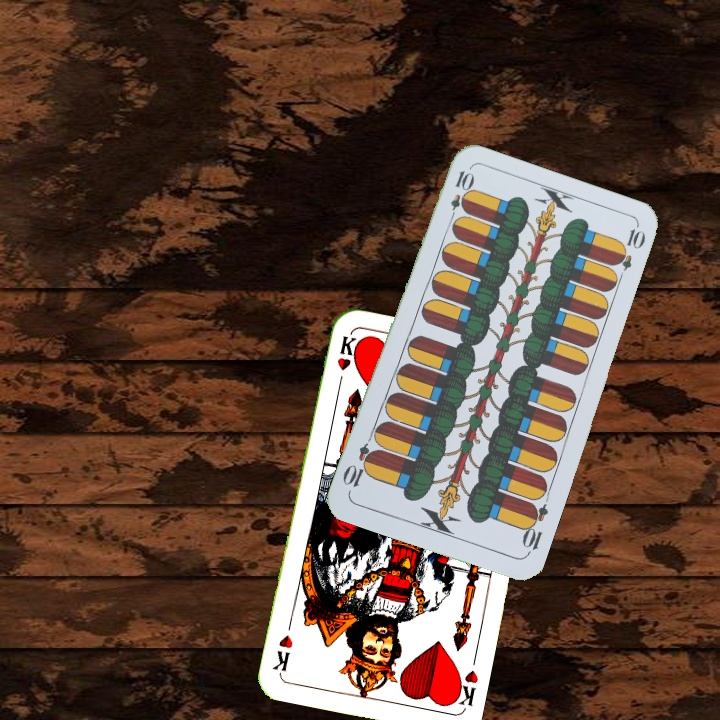E10: (518, 499, 551, 558), (445, 166, 474, 225)
HK: (333, 332, 359, 390), (449, 666, 481, 711)
